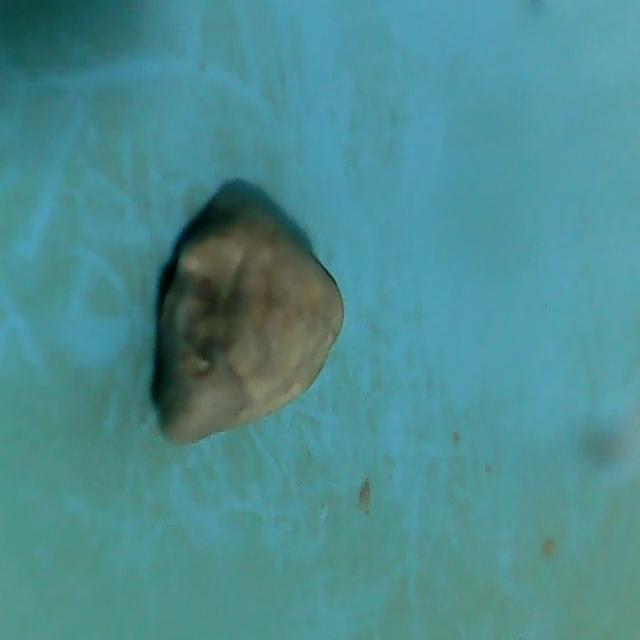rock: (143, 195, 350, 449)
